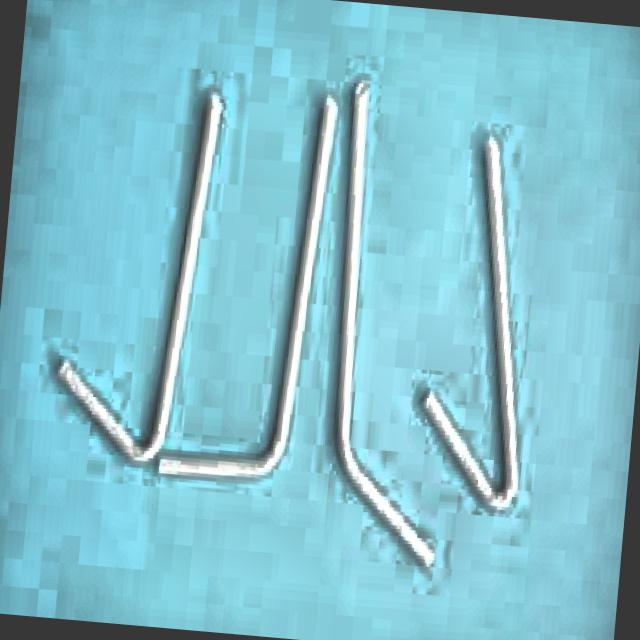plastic straw: (337, 84, 430, 566)
